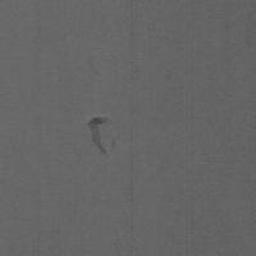Inclusion: (86, 115, 113, 160)
